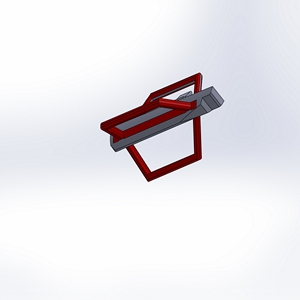submarine: (96, 66, 247, 189)
